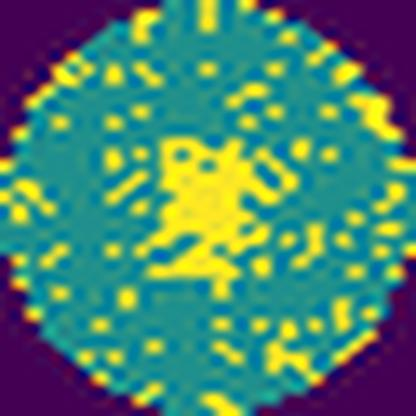Center: (133, 127, 288, 296)
